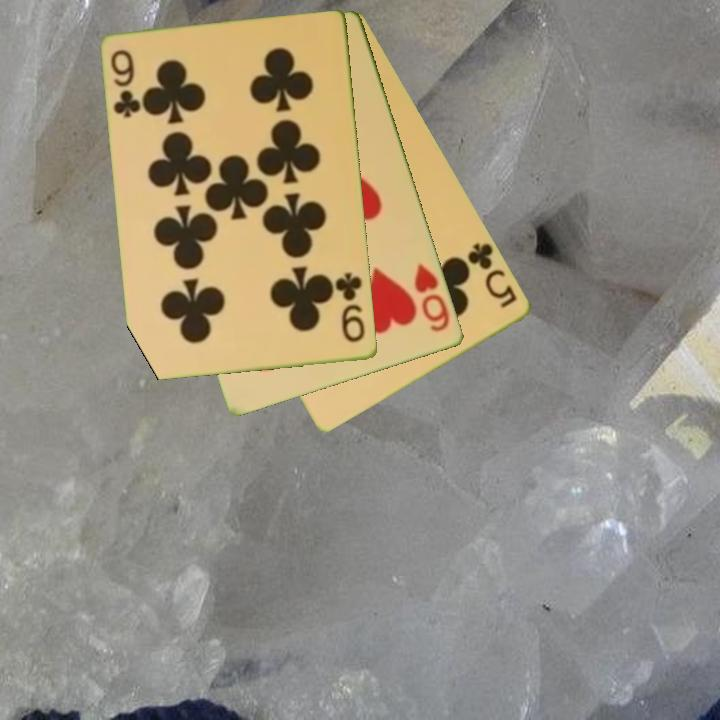5c: (461, 239, 521, 311)
6h: (411, 260, 453, 335)
9c: (332, 269, 369, 346), (107, 46, 144, 121)
